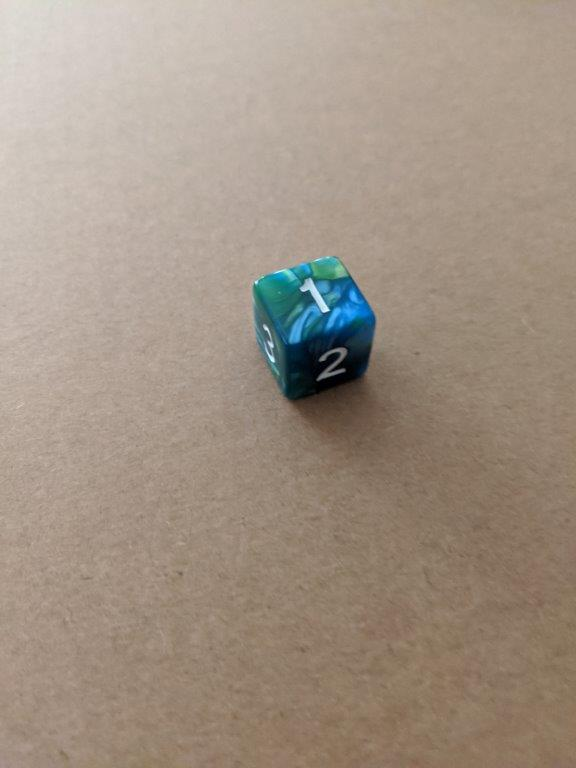d6-1: (250, 252, 376, 401)
